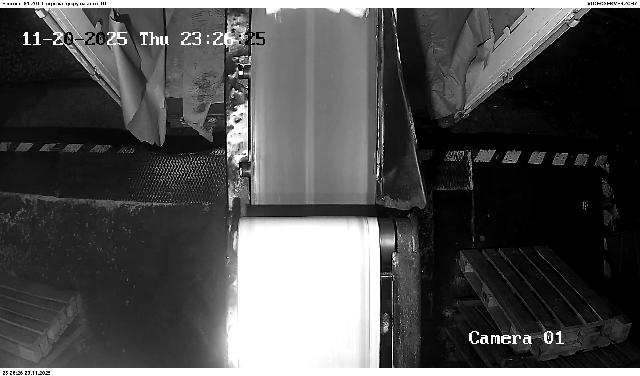bag: (266, 9, 371, 17)
